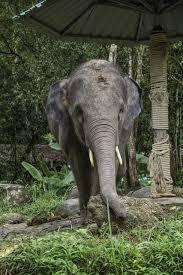elephant: (46, 59, 142, 217)
